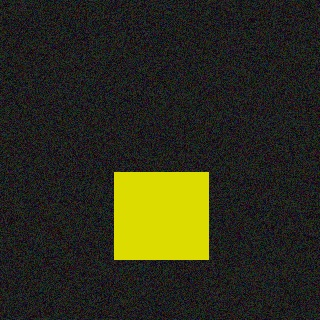yellow_barrel: (114, 172, 209, 259)
